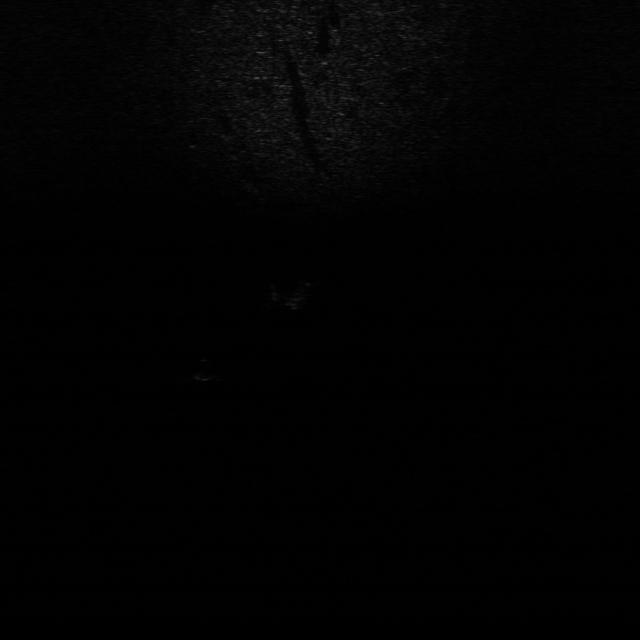ball: (186, 356, 224, 384)
human body: (267, 276, 324, 314)
